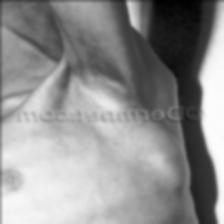Unclassified: (70, 20, 130, 82)
